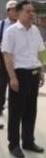boots: (0, 119, 11, 128), (0, 110, 4, 116)
hard-hat: (0, 0, 8, 9)
